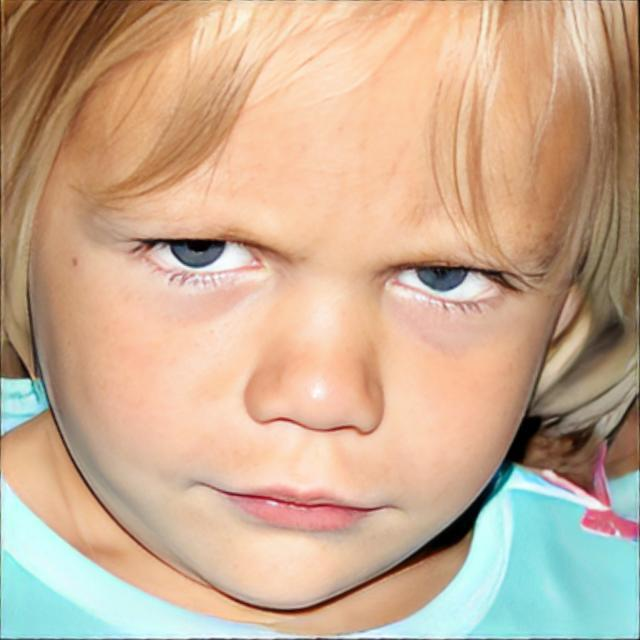anger: (65, 18, 567, 604)
